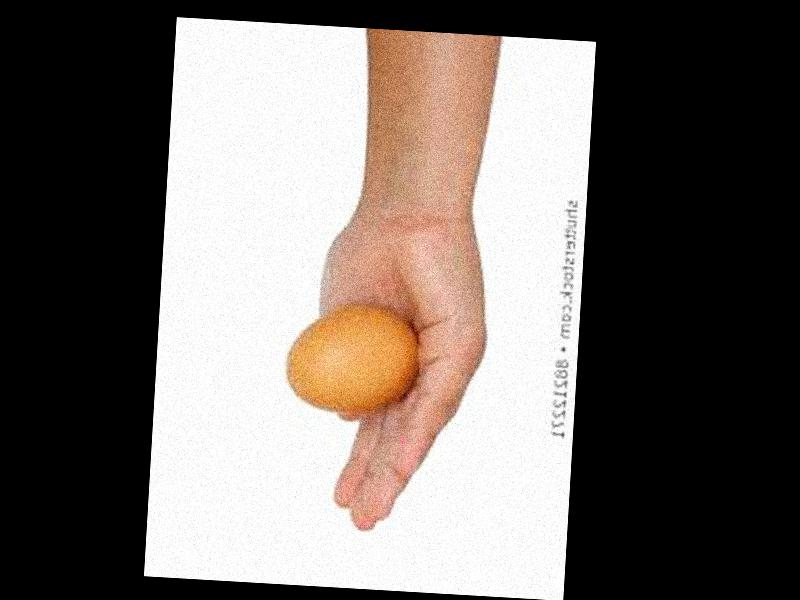Eggs: (282, 301, 423, 416)
